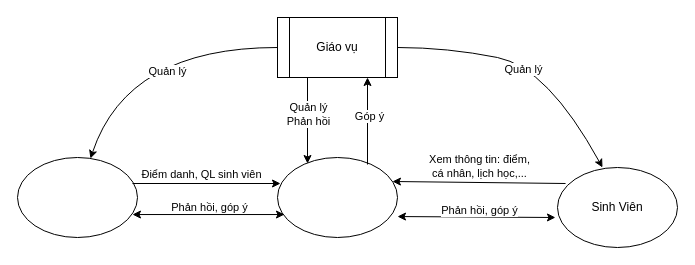
The diagram is 695 pixels wide and 265 high, and some of its shapes have lost their labels. The shapes that lost their labels are listed below. From the top down, each one's centre as x and y in pixels, then its label:
At (77,197): "Giảng viên".
At (337,197): "ứng dụng Quản lý đào tạo".
